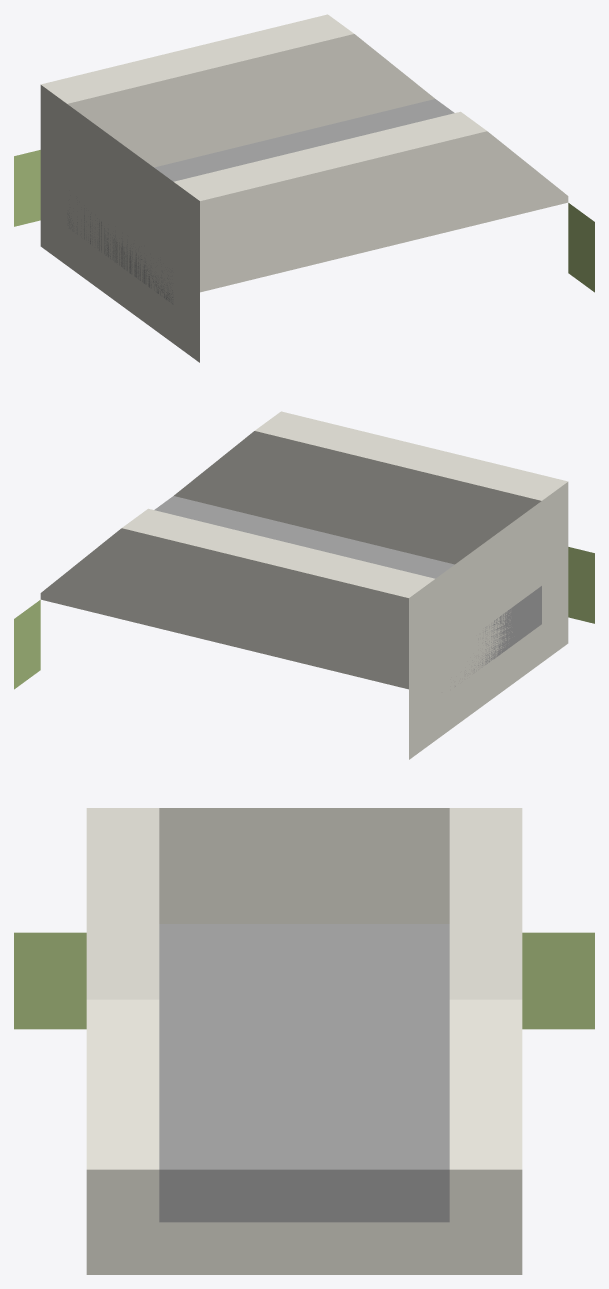
The model's file is roadTile_193.glb.
3 views of the same model, one above another, from view 1: azimuth 30°, elevation 25°; view 2: azimuth 150°, elevation 25°; view 3: azimuth 270°, elevation 25° (orthographic). The views are drawn at different scales.
Visible parts, largest first — view 1: roadTile_193; view 2: roadTile_193; view 3: roadTile_193.
Boxes of the visible parts, bbox=[...] form: roadTile_193: bbox=[14, 14, 594, 362]; roadTile_193: bbox=[14, 411, 594, 759]; roadTile_193: bbox=[14, 808, 594, 1274].
Bounding box in the file's own units: 3 × 1.26 × 3.
